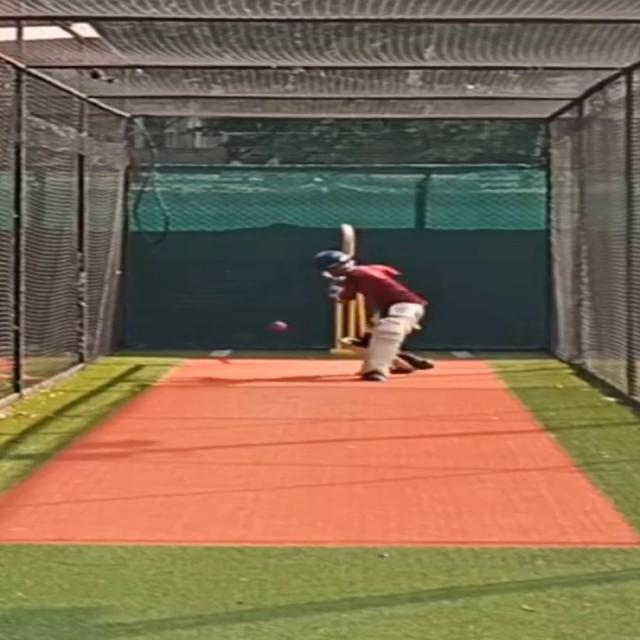stump: (331, 298, 366, 354)
